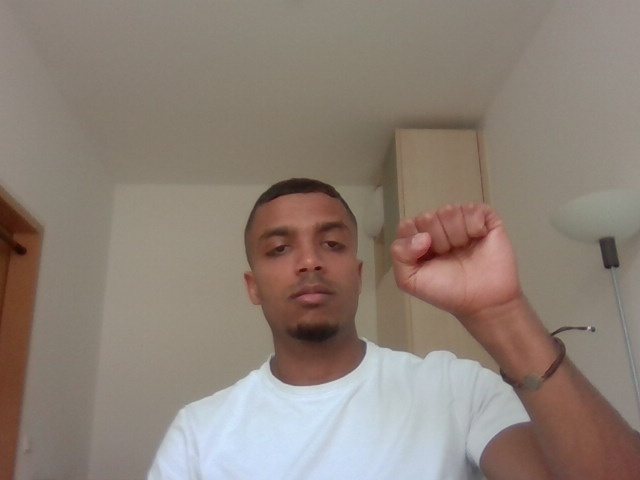maybe: (386, 190, 537, 323)
